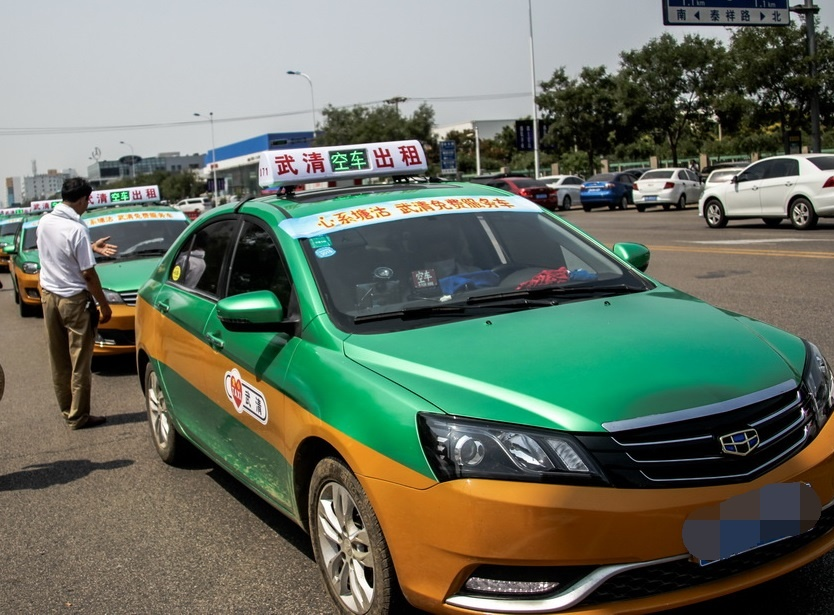taxi: (141, 135, 827, 615)
